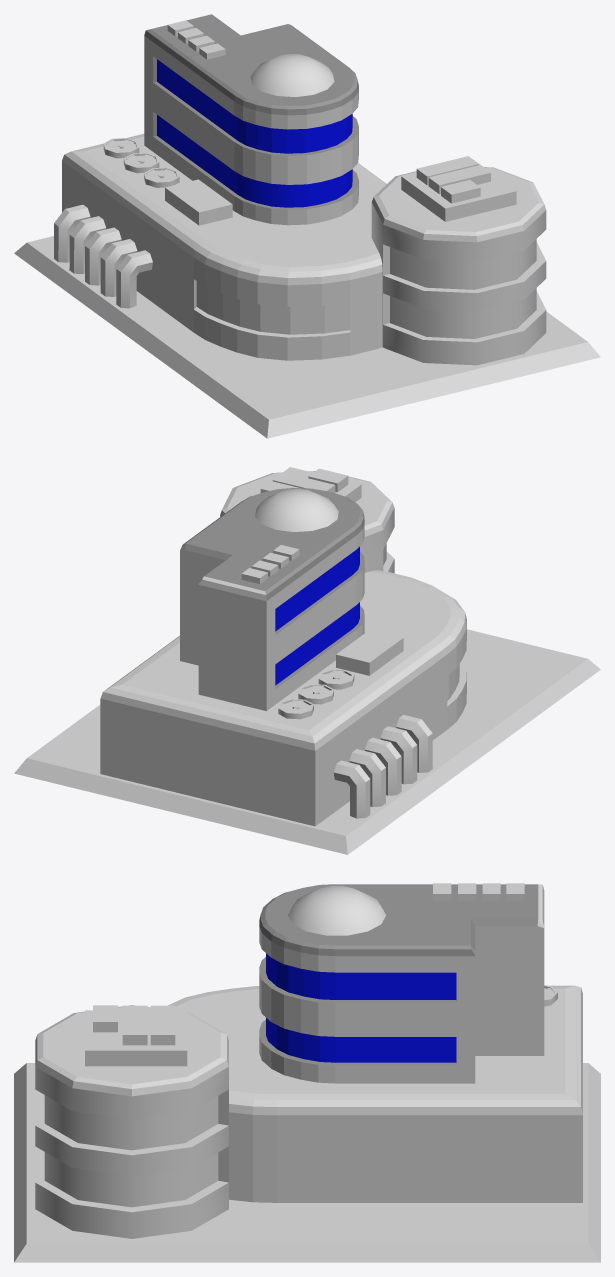
Rendered from zdanie_lvl4.FBX.
3 renders of one model, top to bottom at view 1: azimuth 30°, elevation 25°; view 2: azimuth 150°, elevation 25°; view 3: azimuth 270°, elevation 25°, orthographic. The views are drawn at different scales.
Visible parts, largest first — view 1: etag1, etag2, krainee_zdanie, Box001, kupol, box_na_cilindre1, box_na_2_etage, truba1, truba2, truba3, truba4, truba5 (+6 smaller); view 2: etag1, etag2, Box001, krainee_zdanie, kupol, box_na_2_etage, truba5, truba2, truba3, truba1, truba4, box_na_boxe_cilindra2 (+4 smaller); view 3: etag1, etag2, Box001, krainee_zdanie, kupol, box_na_cilindre1, box_na_boxe_cilindra2, box_na_boxe_cilindra1, box_na_boxe_cilindra3.
Boxes of the visible parts, x1,y1,x2,y2 form: etag1: (62, 133, 386, 360); etag2: (144, 14, 358, 225); krainee_zdanie: (371, 167, 546, 365); Box001: (14, 236, 600, 438); kupol: (250, 54, 334, 97); box_na_cilindre1: (401, 159, 516, 221); box_na_2_etage: (165, 179, 232, 225); truba1: (116, 250, 152, 308); truba2: (100, 239, 137, 296); truba3: (85, 227, 121, 285); truba4: (69, 216, 106, 274); truba5: (54, 204, 90, 262); etag1: (100, 570, 466, 826); etag2: (180, 488, 364, 710); Box001: (14, 629, 600, 854); krainee_zdanie: (220, 471, 394, 573); kupol: (255, 489, 338, 531); box_na_2_etage: (336, 629, 403, 675); truba5: (333, 760, 370, 818); truba2: (380, 726, 417, 784); truba3: (365, 737, 401, 795); truba1: (396, 715, 432, 772); truba4: (349, 749, 385, 807); box_na_boxe_cilindra2: (272, 472, 335, 492); etag1: (168, 985, 582, 1202); etag2: (259, 884, 544, 1083); Box001: (14, 1063, 600, 1262); krainee_zdanie: (35, 1005, 228, 1238); kupol: (288, 886, 386, 935); box_na_cilindre1: (85, 1010, 187, 1066); box_na_boxe_cilindra2: (122, 1005, 147, 1045); box_na_boxe_cilindra1: (150, 1005, 175, 1045); box_na_boxe_cilindra3: (93, 1005, 117, 1032).
Bounding box in the file's own units: 946 × 643 × 1243.
